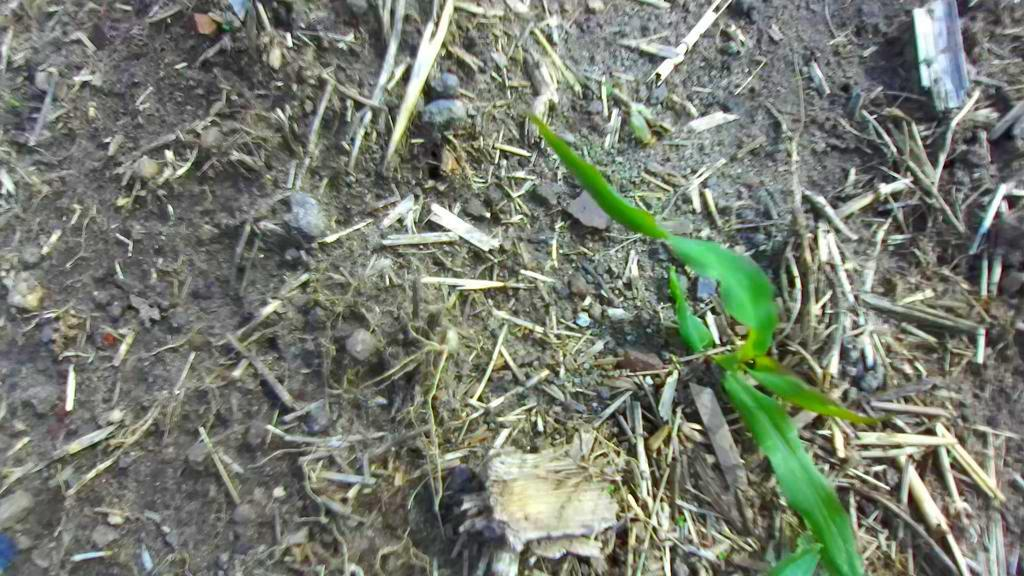BroWeed: (716, 550, 727, 560), (676, 514, 685, 525), (8, 99, 20, 107), (221, 22, 231, 31), (607, 484, 615, 491)
Maize: (520, 32, 959, 576)
